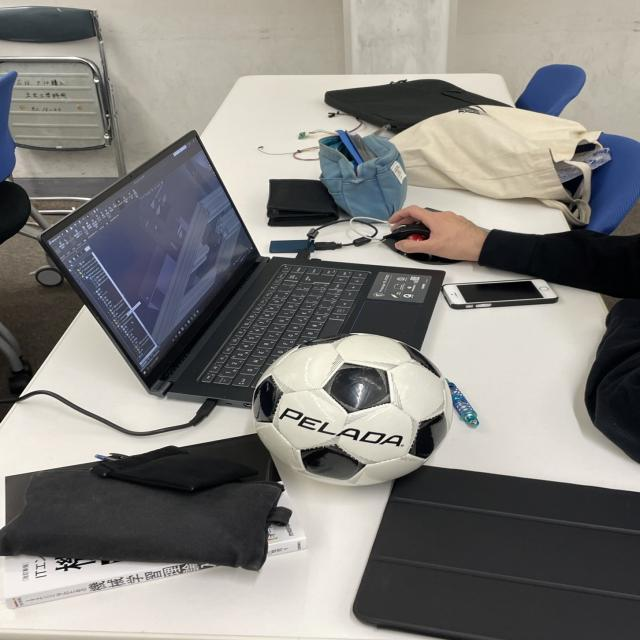ball: (249, 333, 452, 490)
